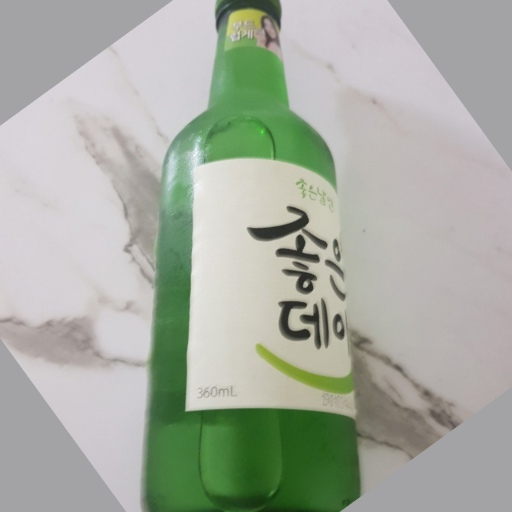Glass_0: (139, 2, 360, 512)
